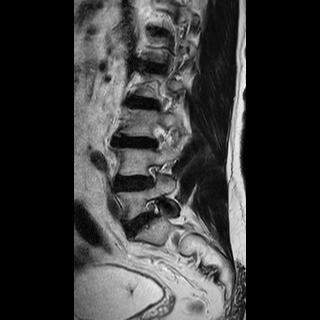LFS0: (141, 194, 165, 229)
LFS1: (141, 159, 162, 191)
